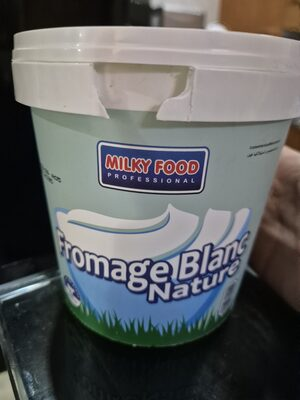Fromage Blanc Nature: (15, 20, 285, 380)
